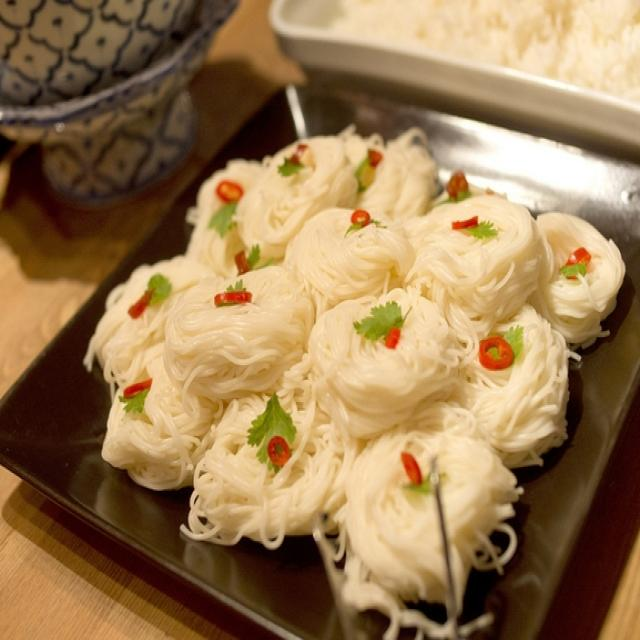面条主食: (28, 57, 623, 624)
